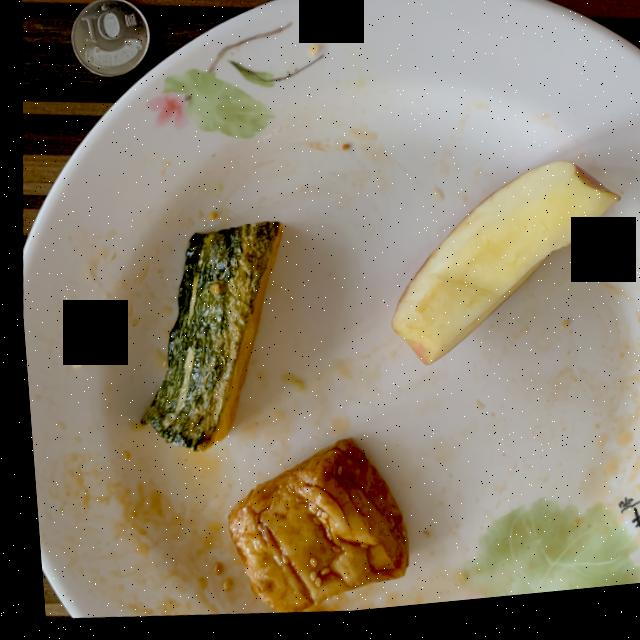apple -sliced-: (386, 170, 616, 371)
coin: (71, 0, 149, 77)
creamy tofu: (220, 444, 399, 617)
pumpkin: (134, 225, 277, 453)
